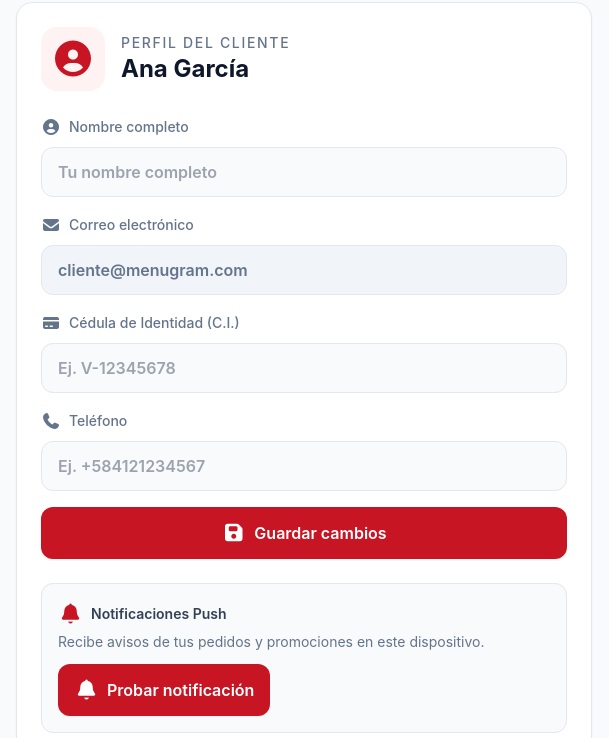
Test: ProfilePage › muestra un error cuando el permiso de notificación es denegado
This screenshot has width=609, height=738.
Click the button "Probar notificación".
click(164, 690)  # box [58, 664, 270, 716]
(page scrolled)
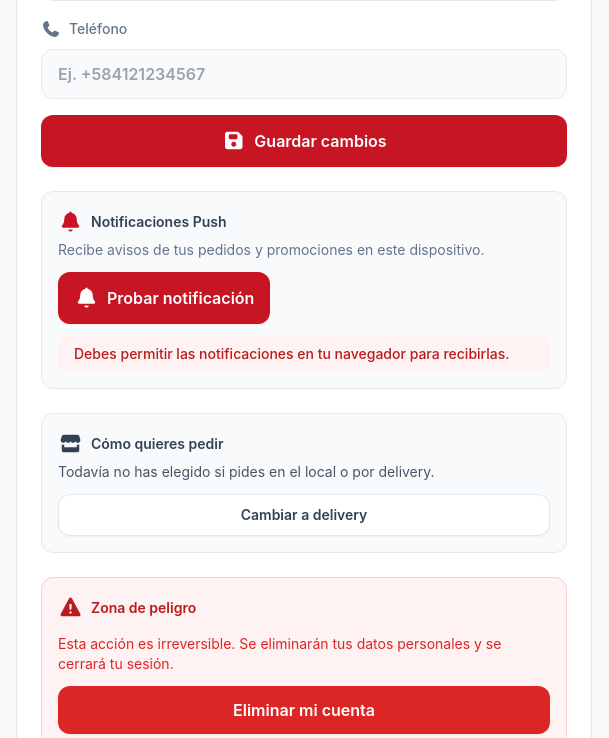
expect the message shows "Debes permitir las notificaciones": met, box [74, 345, 510, 362]
